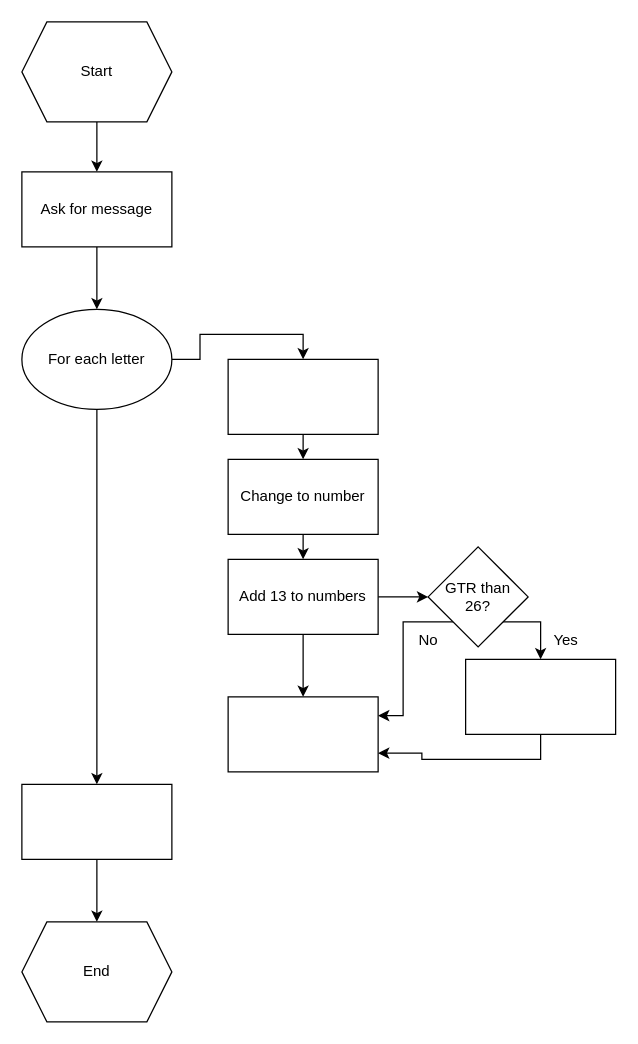
Some shapes in this 638 by 1044 pixel diagram are drawn without their labels. The shapes that lost their labels are listed below. From the top down, each one's centre as x and y in pixels, then its label:
[302,396]: Rotate 13 letters
[540,696]: Subtract 26
[302,734]: Change new number to letter
[96,821]: Print Message
